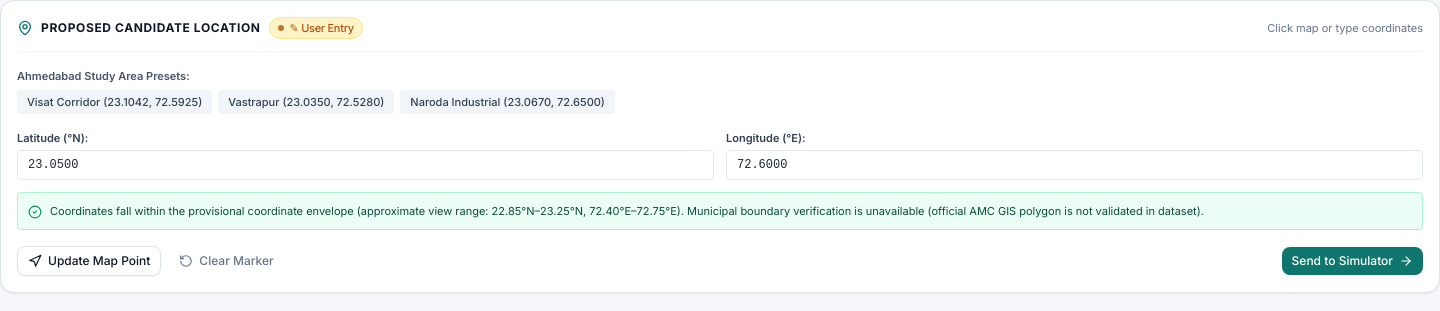
Scenario: Milestone 4 Ahmedabad Map & Candidate-Location Exploration › ProposedLocationPanel › validates study area bounds and detects out-of-study-area coordinates
The image size is (1440, 311).
Expected: the heading "Proposed Candidate Location" is shown, top-left (41, 20), bottom-right (261, 36)
Expected: the text "Coordinates fall within the provisional coordinate envelope" is shown, top-left (50, 204), bottom-right (1204, 218)
# Enter out-of-bounds latitude
Replace the text in the number field named "Proposed station latitude" with "25.5000" at (366, 165), box top-left (17, 150), bottom-right (714, 180)
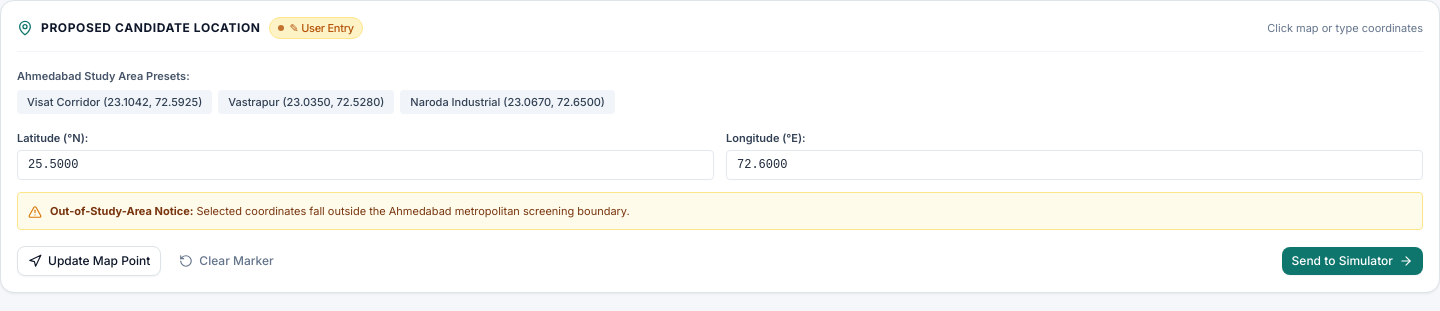
Expected: the text "Out-of-Study-Area Notice:" is shown, top-left (50, 204), bottom-right (193, 218)
